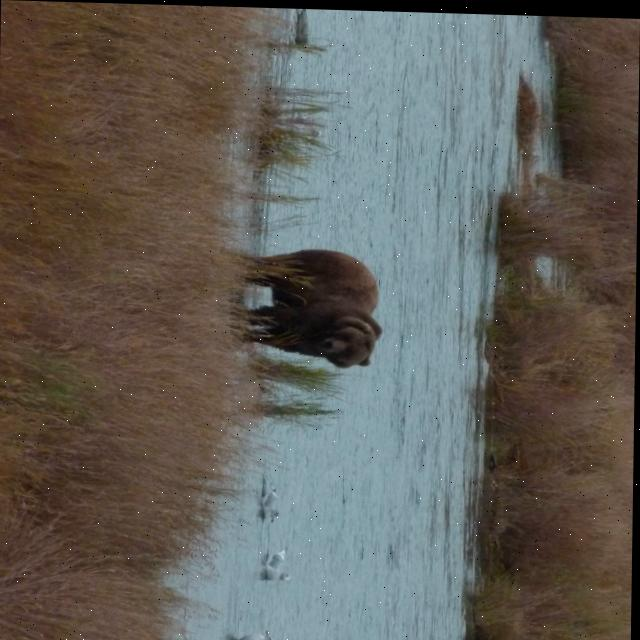bear face: (246, 246, 381, 367)
